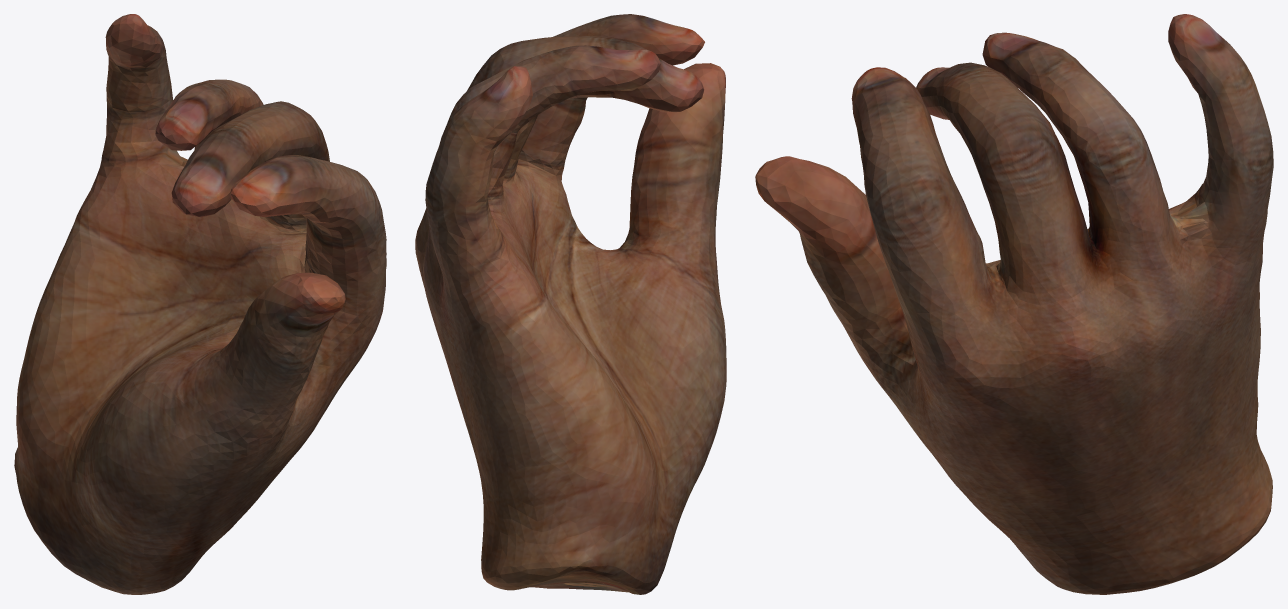
File: skin.obj
The picture shows the model from 3 angles, left to right: view 1: azimuth 30°, elevation 25°; view 2: azimuth 150°, elevation 25°; view 3: azimuth 270°, elevation 25°; orthographic projection. The views are drawn at different scales.
Bounding box in the file's own units: 78.03 × 149 × 119.
Materials: 1 (1 with a texture image).
